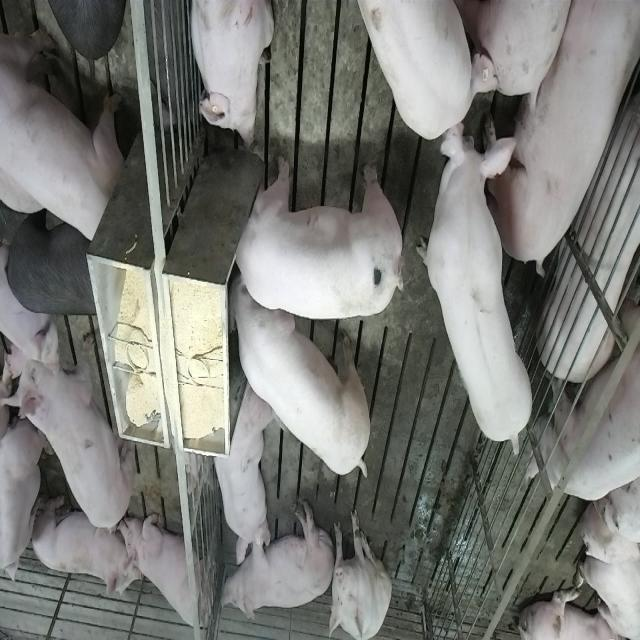Feeding: (229, 278, 377, 480), (224, 155, 398, 321)
Lateral_lying: (474, 0, 636, 272), (220, 496, 336, 622)
Sitting: (124, 507, 214, 638), (328, 506, 392, 638)
Standing: (420, 105, 536, 452), (3, 315, 132, 539), (1, 15, 125, 246), (531, 289, 640, 507), (356, 0, 502, 140), (4, 204, 103, 318)
Sternal_lying: (186, 0, 274, 150), (28, 489, 136, 602), (209, 382, 273, 570)
